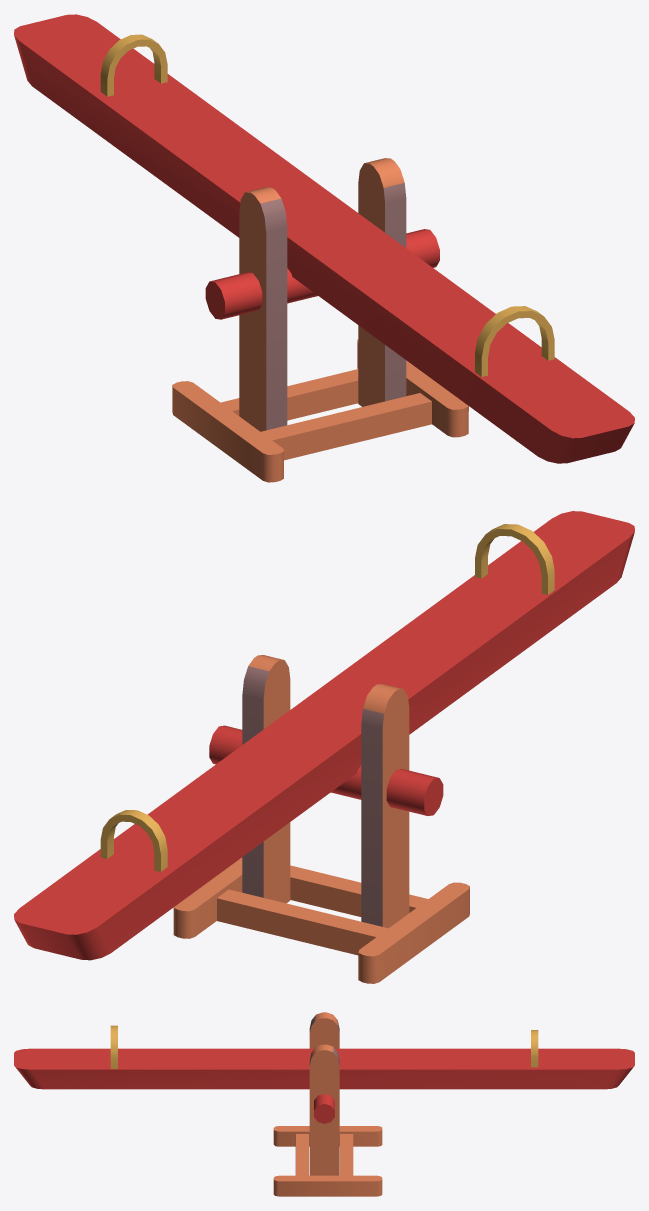
File: SeeSaw_Default_01.fbx
The picture shows the model from 3 angles, top to bottom: view 1: azimuth 30°, elevation 25°; view 2: azimuth 150°, elevation 25°; view 3: azimuth 270°, elevation 25°; orthographic projection. The views are drawn at different scales.
Visible parts, largest first — view 1: SeeSaw_Default_01_top, SeeSaw_Default_01_bottom; view 2: SeeSaw_Default_01_top, SeeSaw_Default_01_bottom; view 3: SeeSaw_Default_01_top, SeeSaw_Default_01_bottom.
Part boxes in pixels (x1=…): SeeSaw_Default_01_top: x1=14, y1=14, x2=634, y2=463; SeeSaw_Default_01_bottom: x1=172, y1=158, x2=468, y2=482; SeeSaw_Default_01_top: x1=14, y1=511, x2=634, y2=960; SeeSaw_Default_01_bottom: x1=173, y1=655, x2=469, y2=983; SeeSaw_Default_01_top: x1=14, y1=1025, x2=634, y2=1089; SeeSaw_Default_01_bottom: x1=273, y1=1012, x2=382, y2=1196.
Bounding box in the file's own units: 0.7842 × 0.8919 × 3.55.
